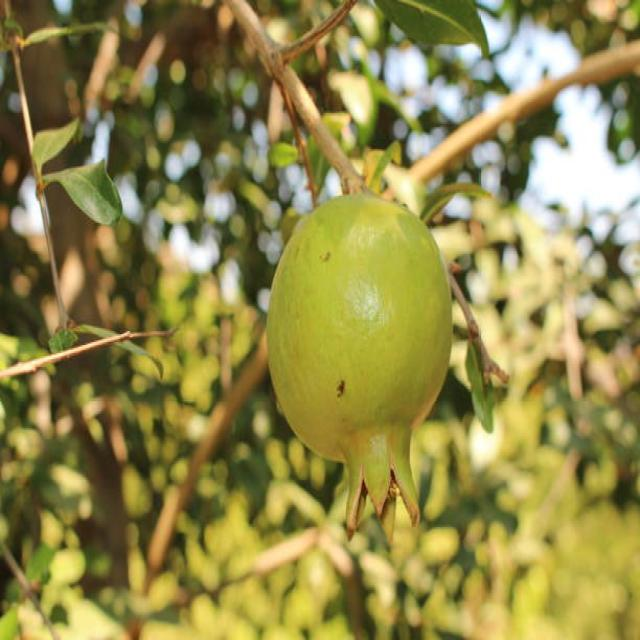Unripe: (267, 191, 452, 536)
